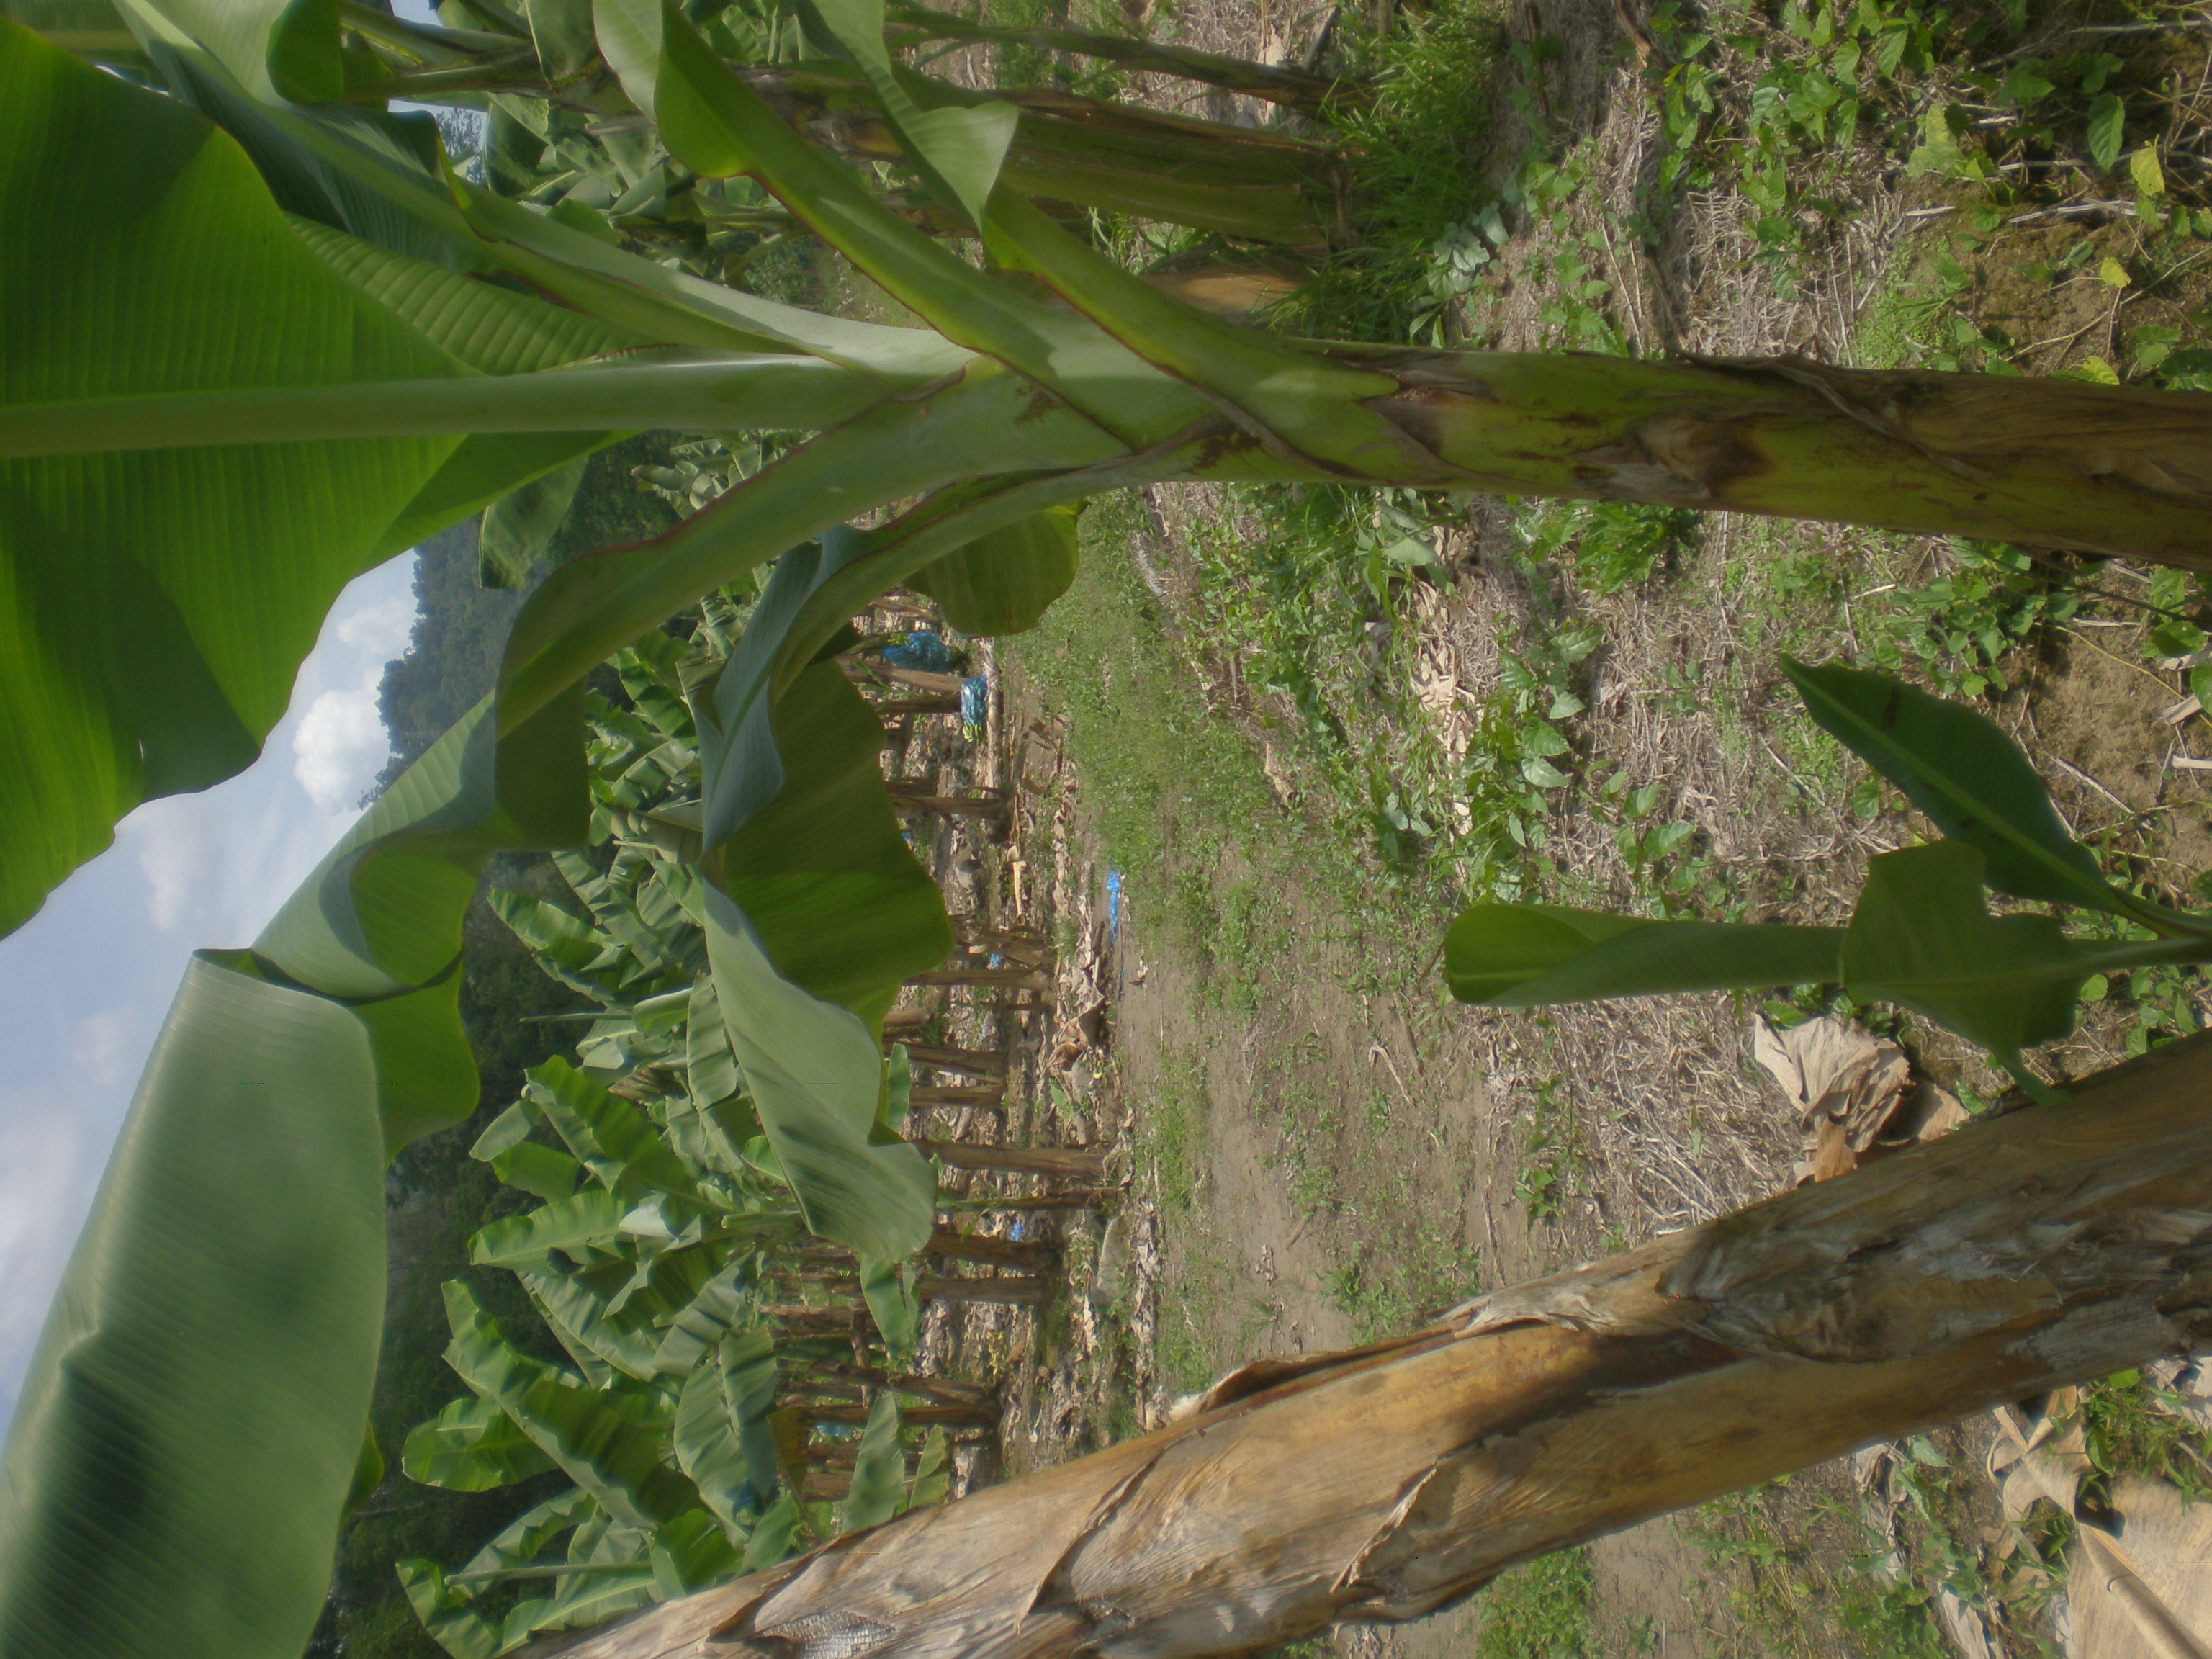candleleafs: (1442, 903, 1839, 1021)
